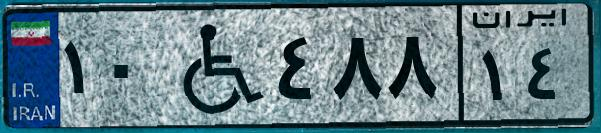0: (110, 28, 158, 98)
1: (57, 26, 110, 100), (475, 38, 525, 113)
4: (270, 28, 330, 110), (525, 38, 570, 115)
8: (385, 28, 445, 110), (330, 28, 385, 110)
ژ (معلولین و جانبازان): (158, 12, 270, 120)
